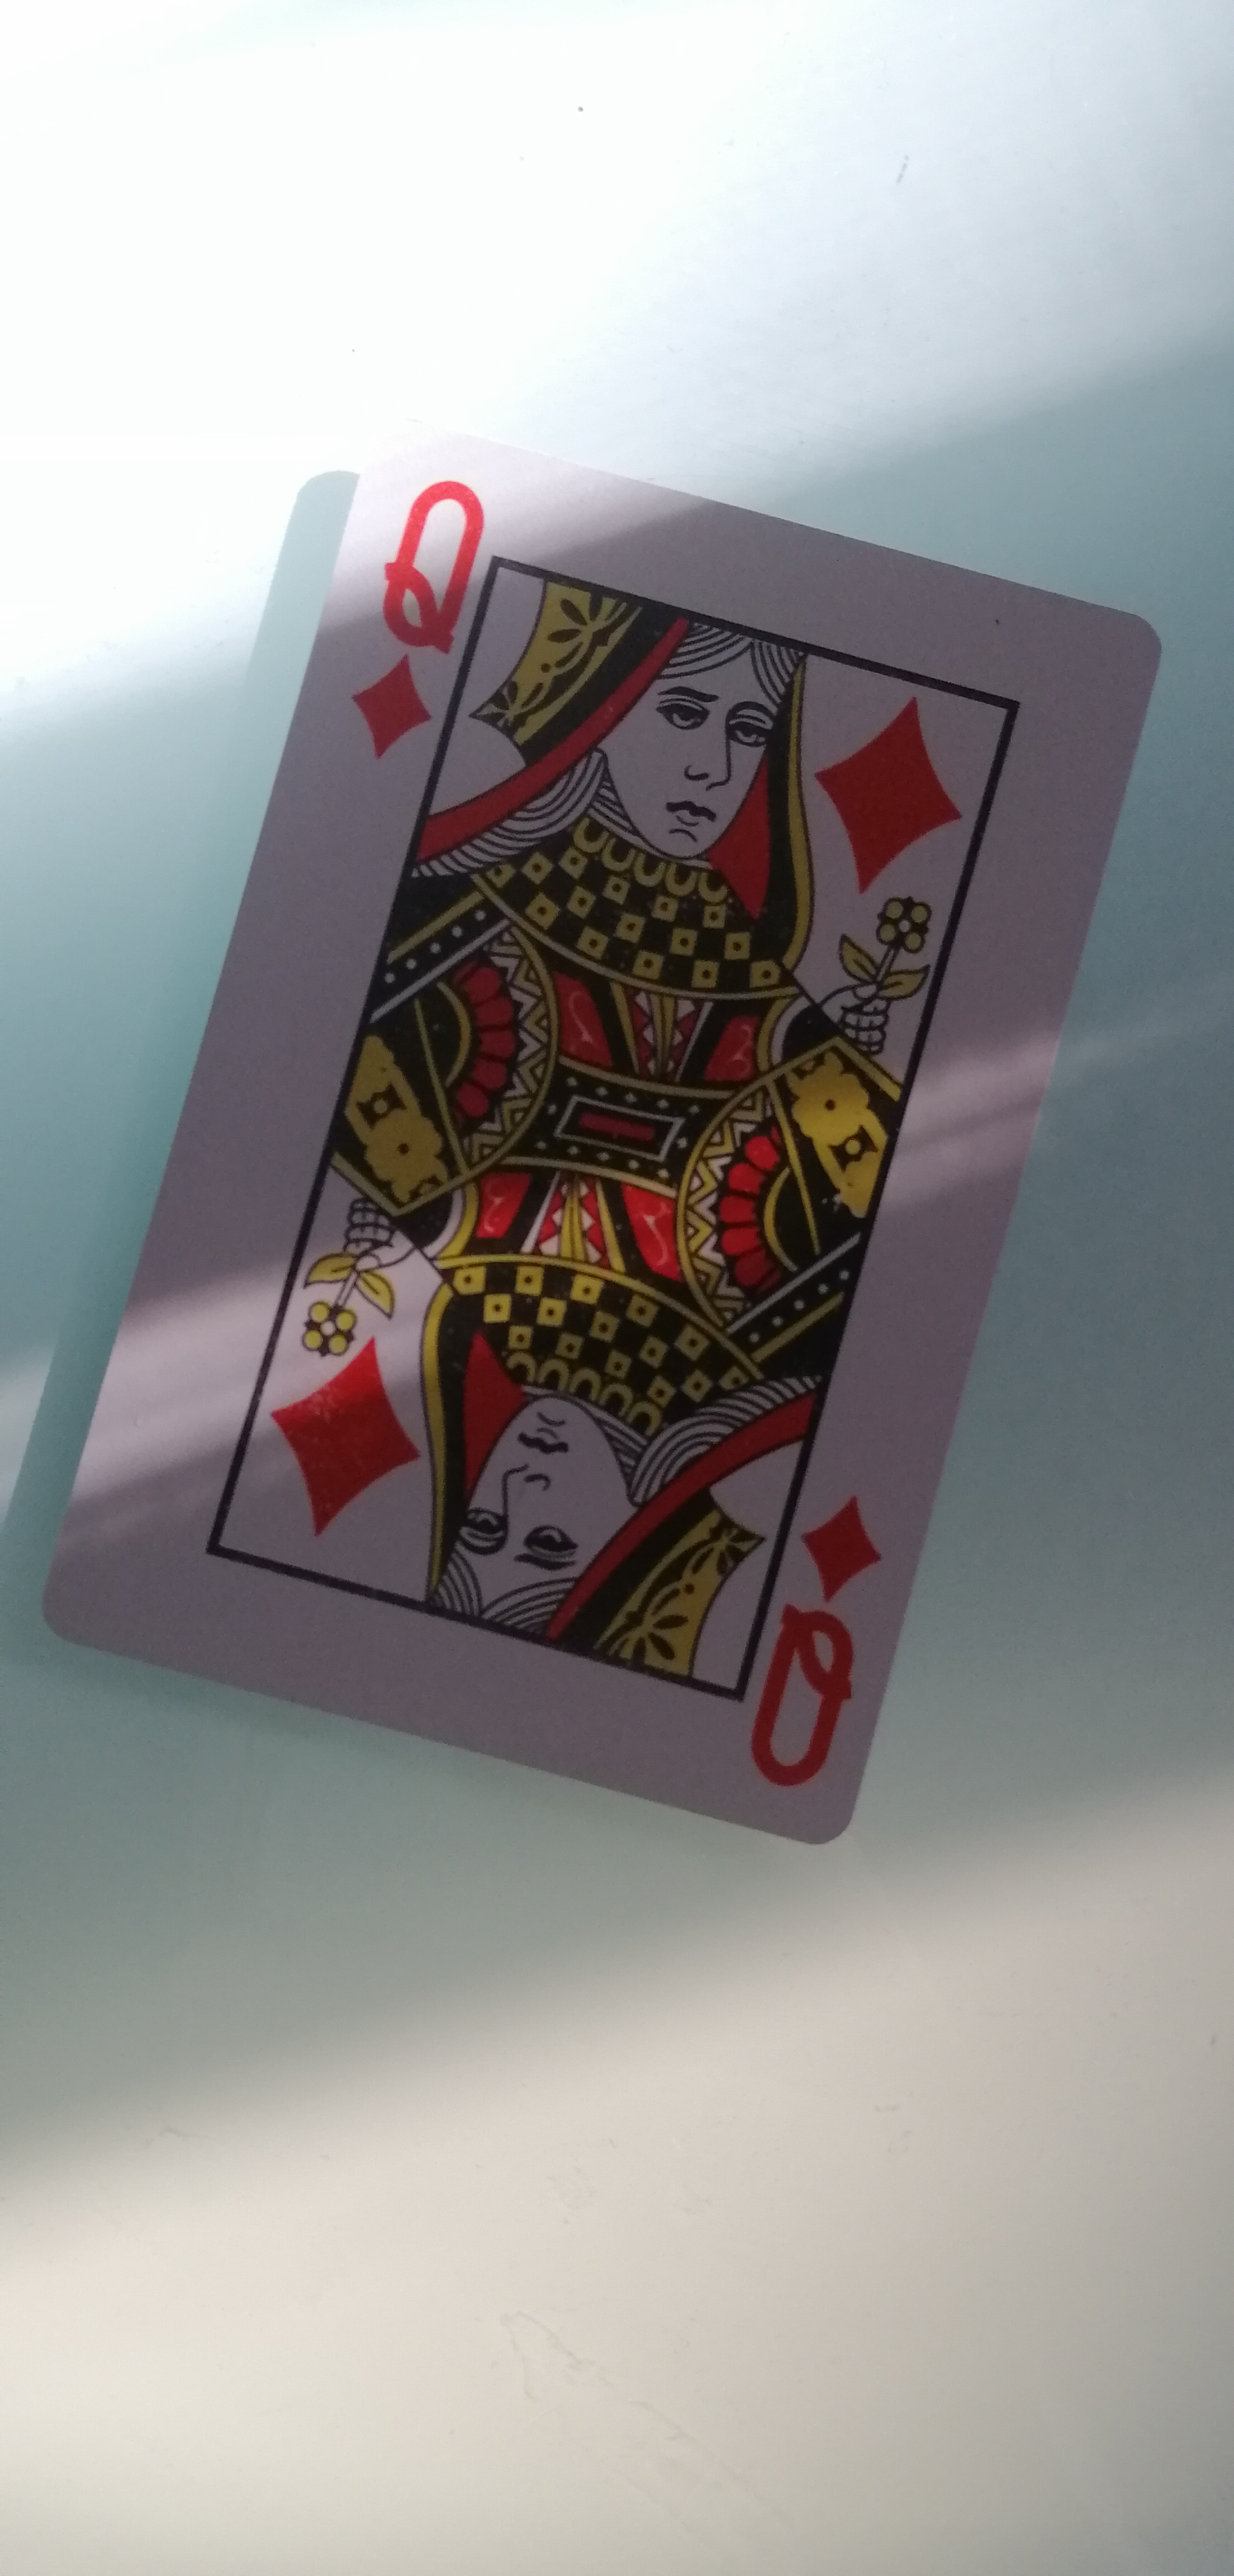queen: (38, 365, 1203, 1875)
